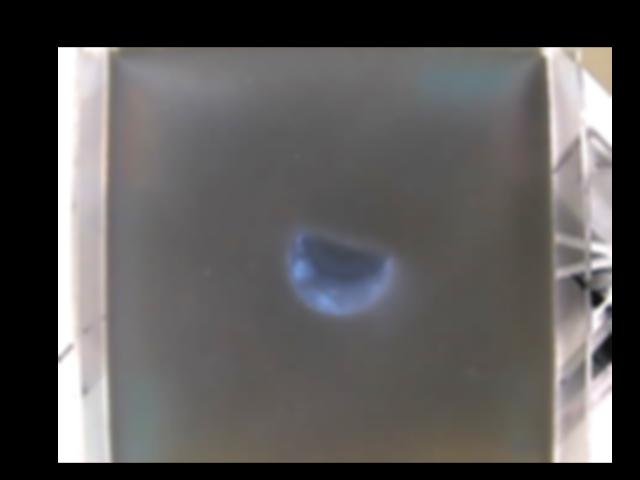Mooli: (286, 226, 391, 313)
